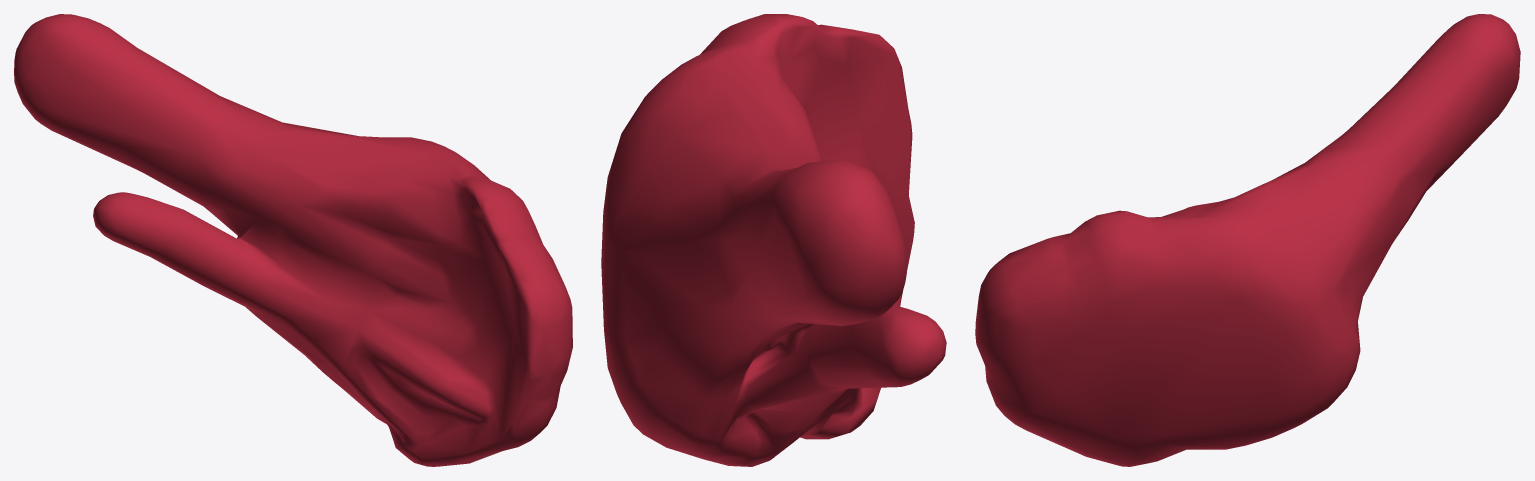
Rendered from inferior-papillary-muscle-of-left-ventricle.glb.
3 views of the same model, side by side, from view 1: azimuth 30°, elevation 25°; view 2: azimuth 150°, elevation 25°; view 3: azimuth 270°, elevation 25° (orthographic). The views are drawn at different scales.
Visible parts, largest first — view 1: Inferior papillary muscle of left ventricle; view 2: Inferior papillary muscle of left ventricle; view 3: Inferior papillary muscle of left ventricle.
Part boxes in pixels (x1,y1,x2,y2): Inferior papillary muscle of left ventricle: (14,14,572,466); Inferior papillary muscle of left ventricle: (601,14,946,466); Inferior papillary muscle of left ventricle: (975,14,1520,466).
Size of the model in its own units: 0.0295 by 0.0311 by 0.0437.
